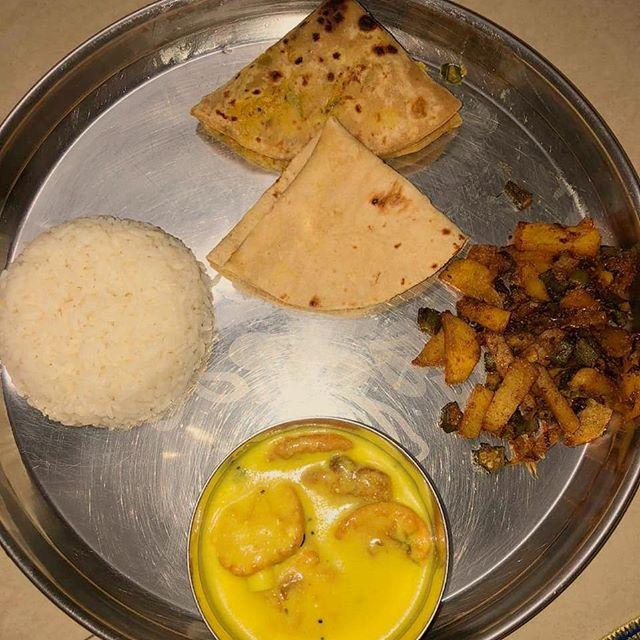Roti: (220, 133, 469, 324), (214, 3, 473, 178)
White Rice: (8, 201, 212, 434)
